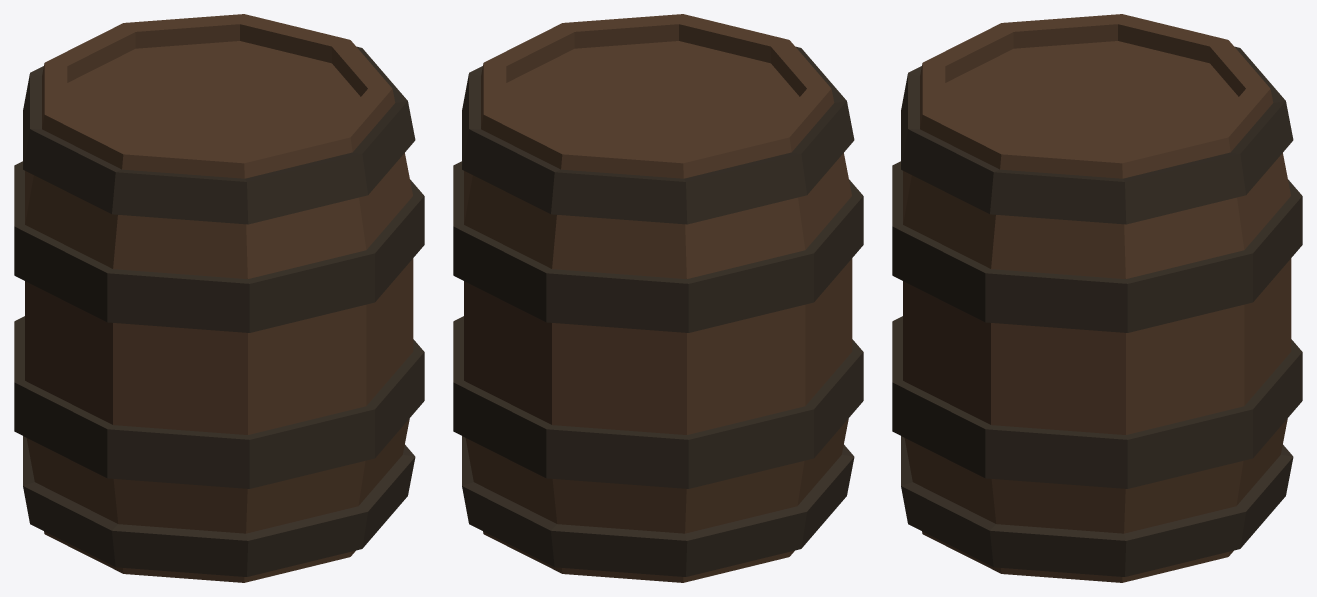
Rendered from Faded Brown Four Ringed Barrel.fbx.
3 views of the same model, side by side, from view 1: azimuth 30°, elevation 25°; view 2: azimuth 150°, elevation 25°; view 3: azimuth 270°, elevation 25° (orthographic).
Parts seen in each view (by area): view 1: Faded Brown Four Ringed Barrel; view 2: Faded Brown Four Ringed Barrel; view 3: Faded Brown Four Ringed Barrel.
Part boxes in pixels (x1=…): Faded Brown Four Ringed Barrel: x1=14, y1=14, x2=424, y2=582; Faded Brown Four Ringed Barrel: x1=453, y1=14, x2=863, y2=582; Faded Brown Four Ringed Barrel: x1=892, y1=14, x2=1302, y2=582.
Bounding box in the file's own units: 180 × 200 × 177.
